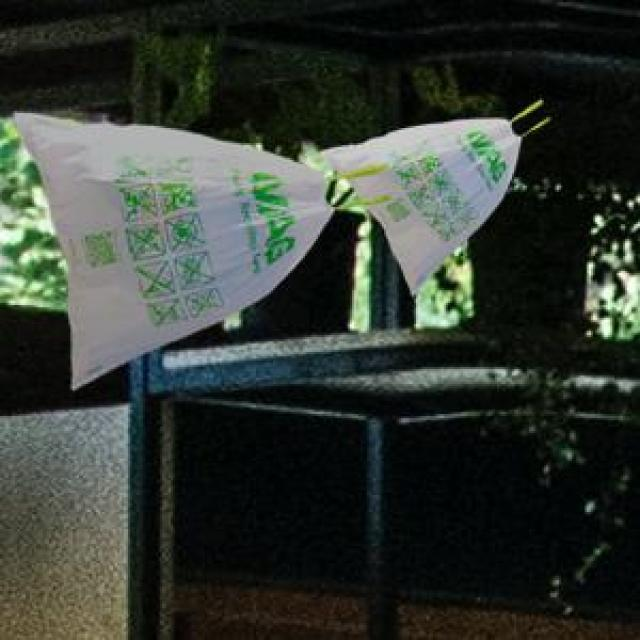waste: (17, 114, 521, 388)
